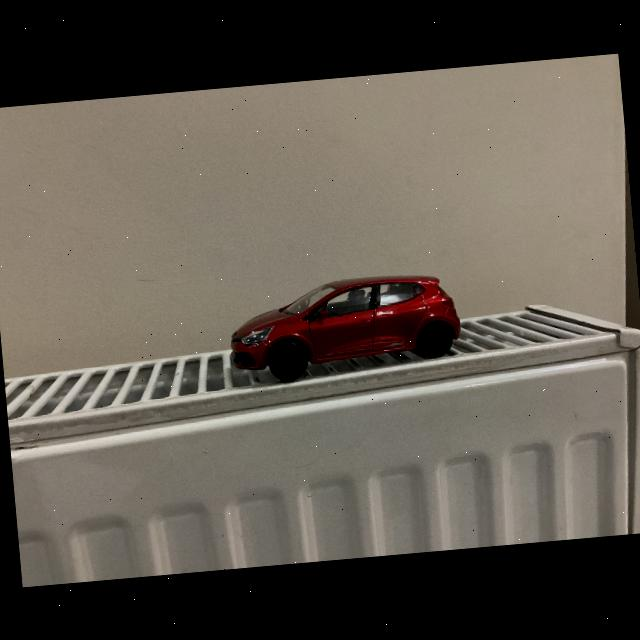Dogru_Jant: (272, 346, 303, 376), (422, 325, 448, 351)
